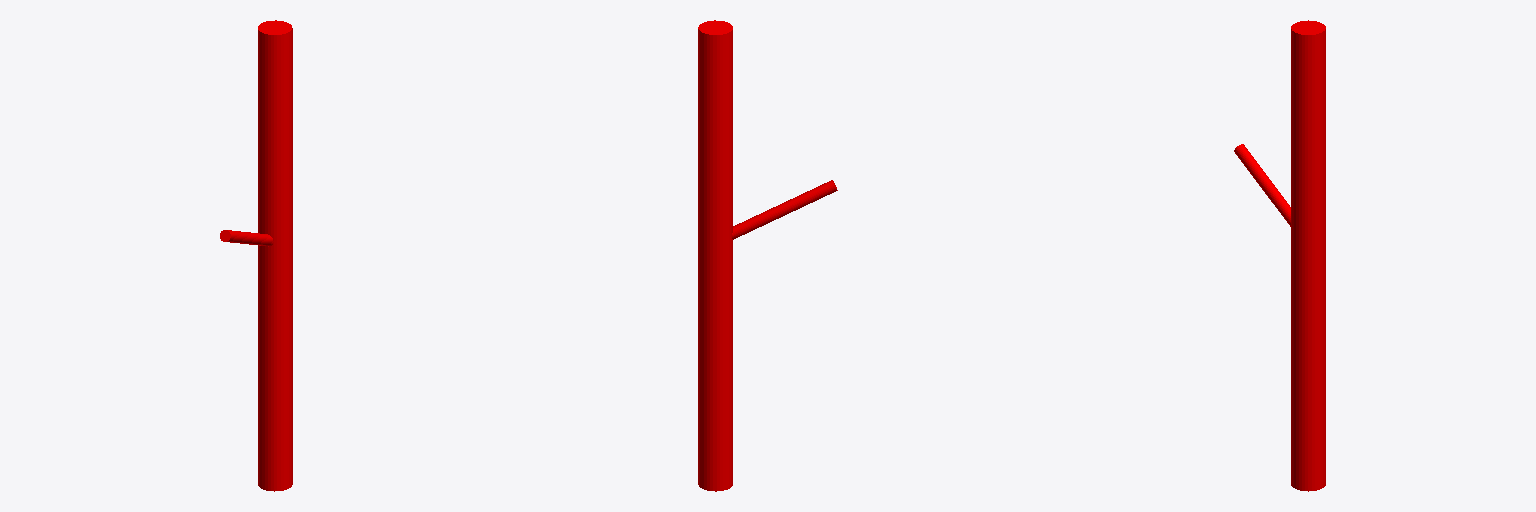
robot.urdf — tree.urdf:
<?xml version="1.0" ?>
<robot name="tree.urdf">
  <link name="baseLink">
    <inertial>
      <origin rpy="0 0 0" xyz="0 0 0"/>
       <mass value=".1"/>
       <inertia ixx="1" ixy="0" ixz="0" iyy="1" iyz="0" izz="1"/>
    </inertial>
    <contact>
      <lateral_friction value="1.0"/>
      <inertia_scaling value="3.0"/>
    </contact>
    <visual>
      <origin rpy="0 0 0" xyz="0 0 0"/>
      <geometry>
        <mesh filename="real_tree2.stl" scale="1 1 1" />
      </geometry>
      <material name="red">
        <color rgba="1 0 0 1"/>
      </material>
    </visual>
    <collision>
      <origin rpy="0 0 0" xyz="0 0 0"/>
      <geometry>
        <mesh filename="real_tree2.stl" scale="1 1 1" />
      </geometry>
    </collision>
  </link>
</robot>

--- What the picture shows (computed from the rendered views, not written in the file) ---
Views: 3 orthographic renders of the robot side by side, from view 1: azimuth 30°, elevation 25°; view 2: azimuth 150°, elevation 25°; view 3: azimuth 270°, elevation 25°.
Robot: tree.urdf — 1 links, 0 joints (none); root link baseLink; default pose: all joints at 0.
Links seen in each view (by area): view 1: baseLink; view 2: baseLink; view 3: baseLink.
Link boxes in pixels (bbox=[...]): baseLink: bbox=[220, 20, 292, 491]; baseLink: bbox=[698, 20, 837, 491]; baseLink: bbox=[1234, 20, 1325, 491].
Size in the robot's own frame: 0.0687 by 0.0528 by 0.29 metres.
Meshes: 1 distinct files referenced, 1 mesh visuals loaded (1 binary STL).